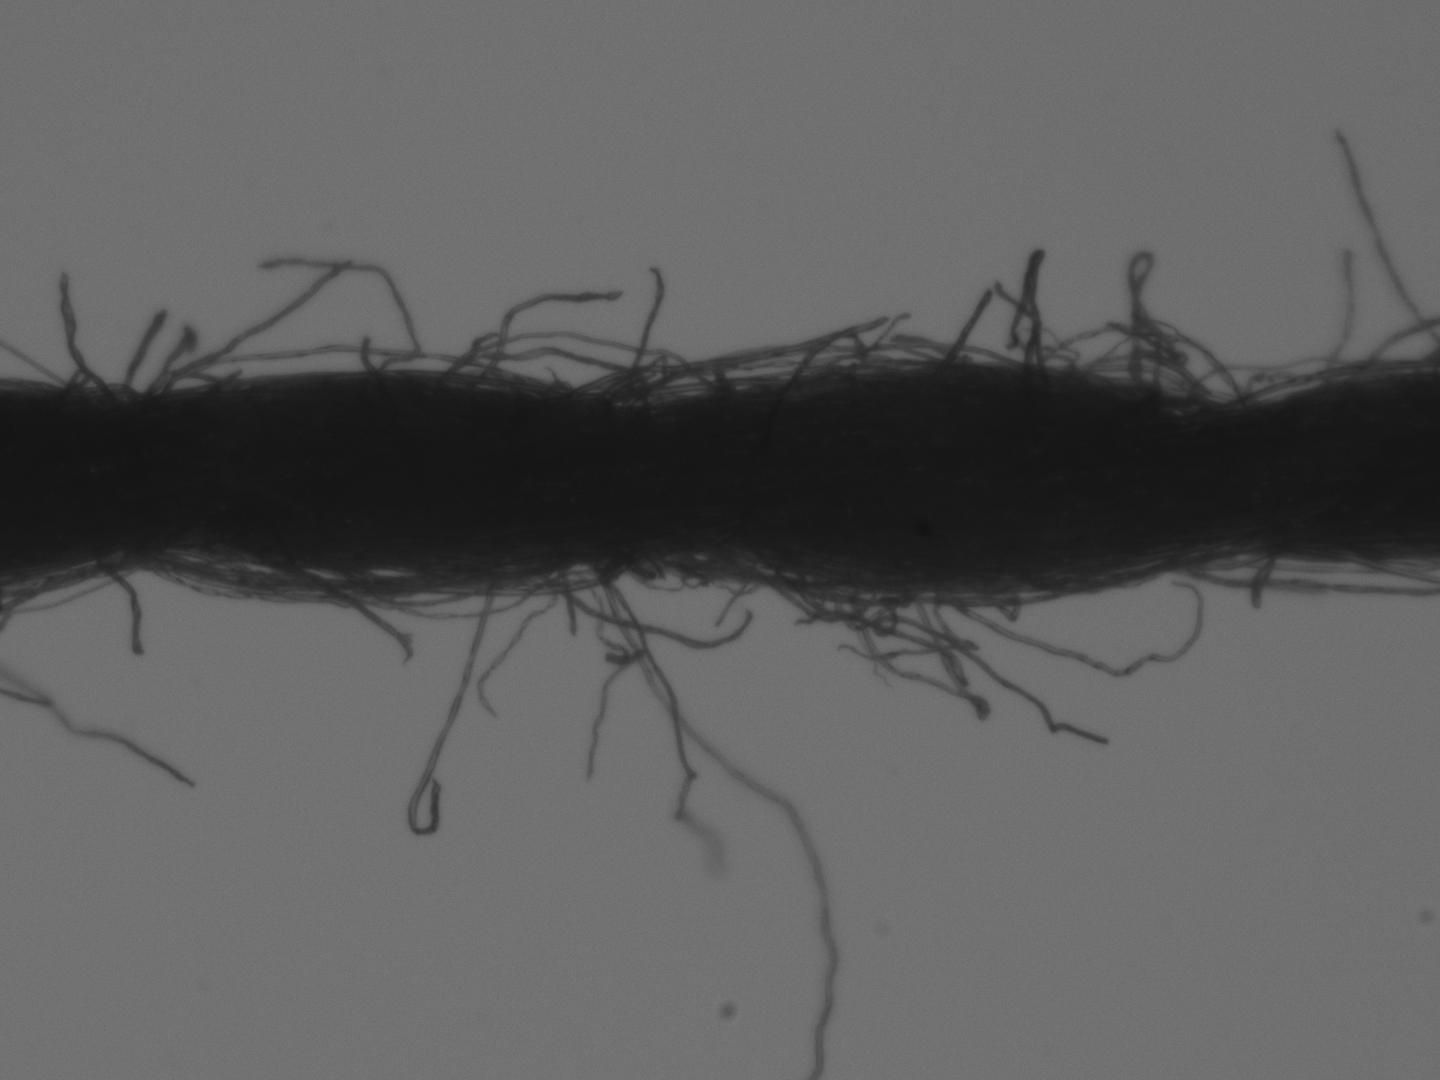loop_fiber: (710, 545, 1045, 636), (646, 334, 1019, 395), (435, 327, 721, 403), (147, 341, 519, 397), (1030, 319, 1248, 404), (327, 565, 561, 623), (52, 360, 136, 400), (133, 366, 228, 402)
protruding_fiber: (1330, 117, 1433, 352), (86, 564, 153, 660), (118, 304, 169, 395)
